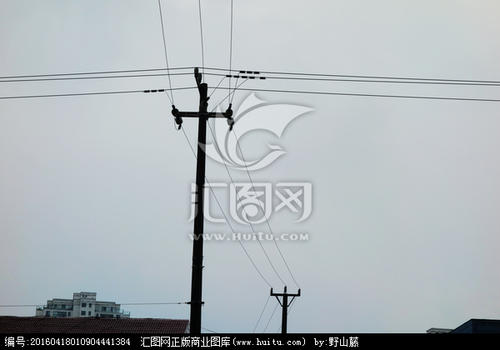utility_pole: (164, 62, 237, 143), (266, 278, 304, 309)
